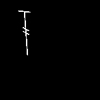treble_crochet: (19, 11, 28, 54)
